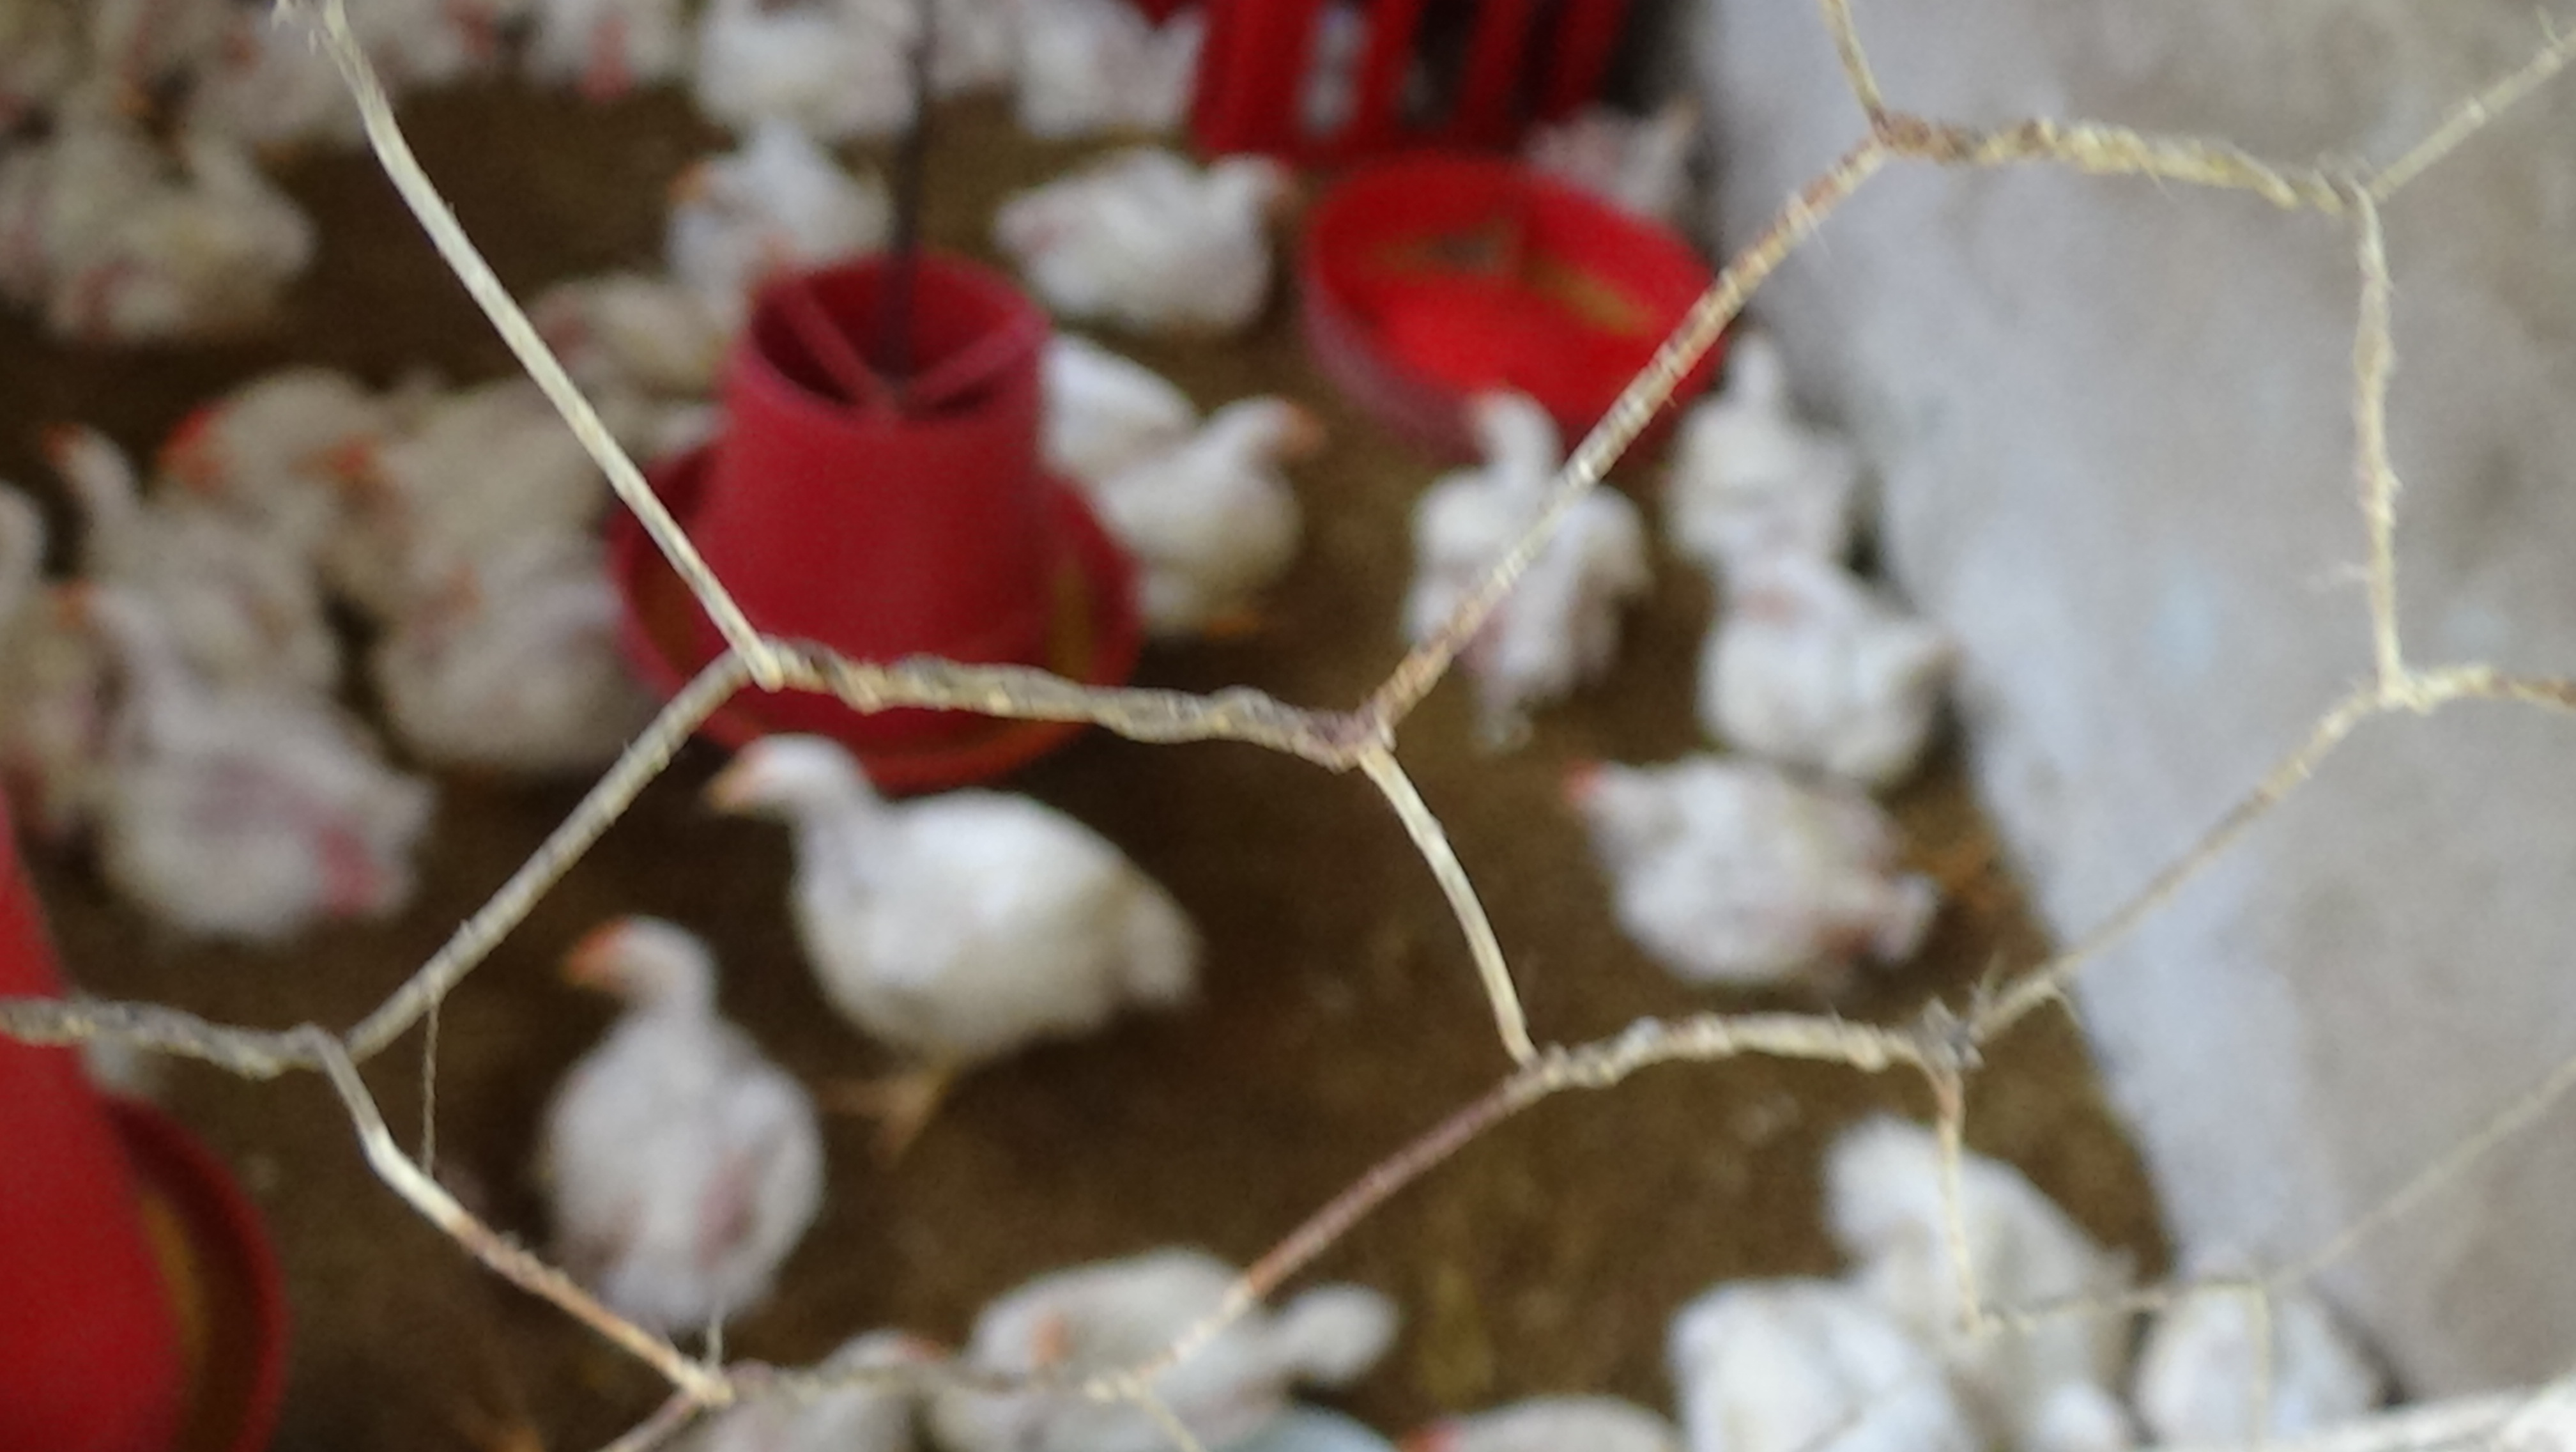Pollos: (718, 685, 1219, 1091), (524, 901, 844, 1335), (1550, 749, 1976, 1022), (96, 673, 449, 962), (954, 1254, 1451, 1452), (1398, 388, 1652, 722), (1835, 1137, 2139, 1395), (987, 133, 1299, 328), (642, 92, 890, 312), (1706, 528, 1946, 753), (1143, 381, 1352, 630), (1532, 76, 1755, 266), (1675, 324, 1858, 533), (172, 129, 322, 331), (11, 69, 179, 228), (149, 358, 281, 521), (297, 425, 460, 544), (524, 0, 692, 110), (16, 391, 140, 533)
